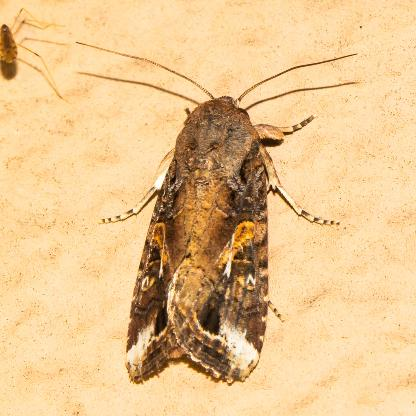Fall Armyworm Moth: (70, 38, 362, 390)
